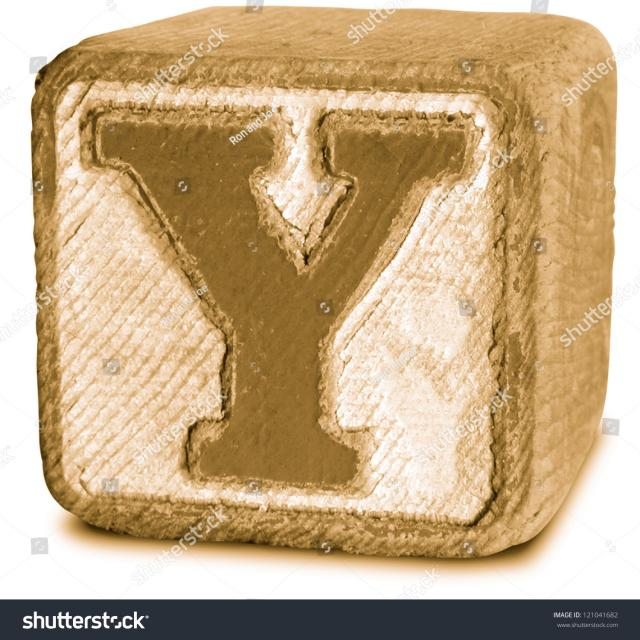Y: (77, 90, 492, 504)
